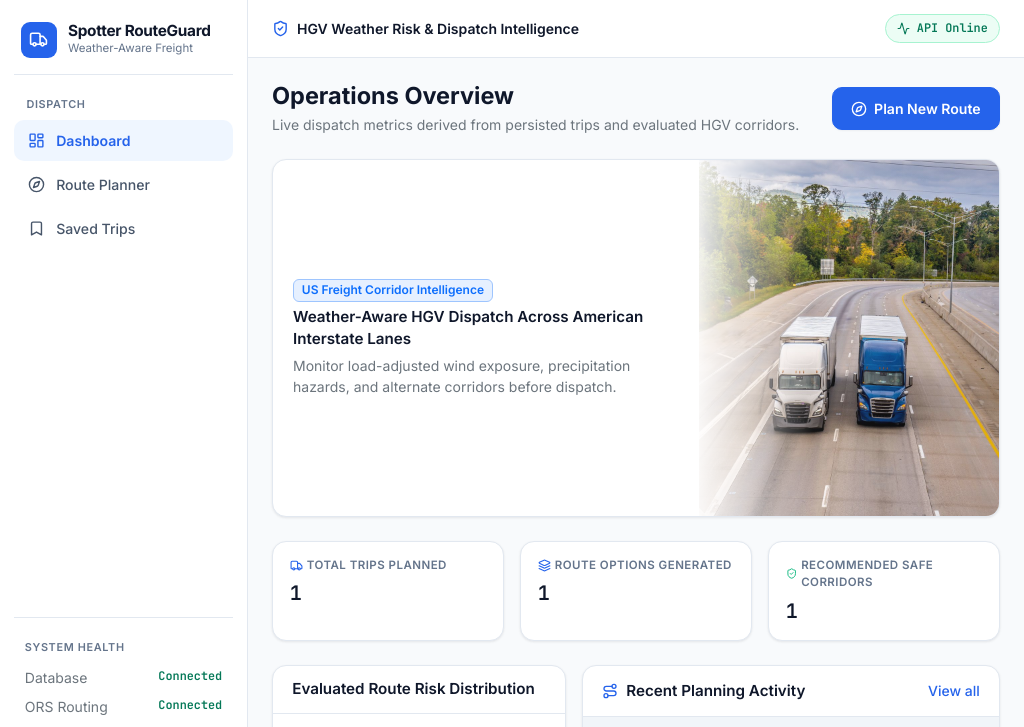
Spotter RouteGuard Navigation Splash, Trucking Visuals & Plan Route Loader › shows the navigation splash on initial website entry, starts data fetching immediately, slides away to reveal Dashboard, and does not replay
The width and height of the screenshot is (1024, 727).
Later steps or results of the test are not shown.
Expected: the heading "Operations Overview" is shown, x1=272 y1=81 x2=514 y2=110
Navigating via sidebar afterward does NOT replay initial splash or show truck loader
Click the link "Route Planner" at [89, 184], box x1=28 y1=176 x2=150 y2=193
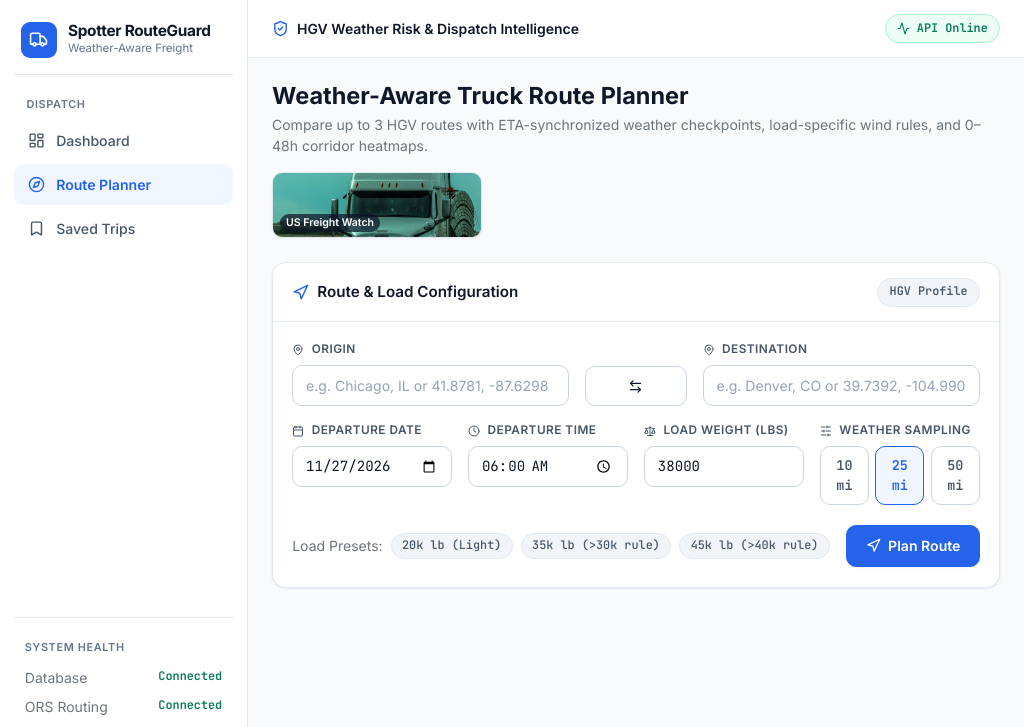
Expected: the heading "Weather-Aware Truck Route Planner" is shown, x1=272 y1=81 x2=689 y2=110
